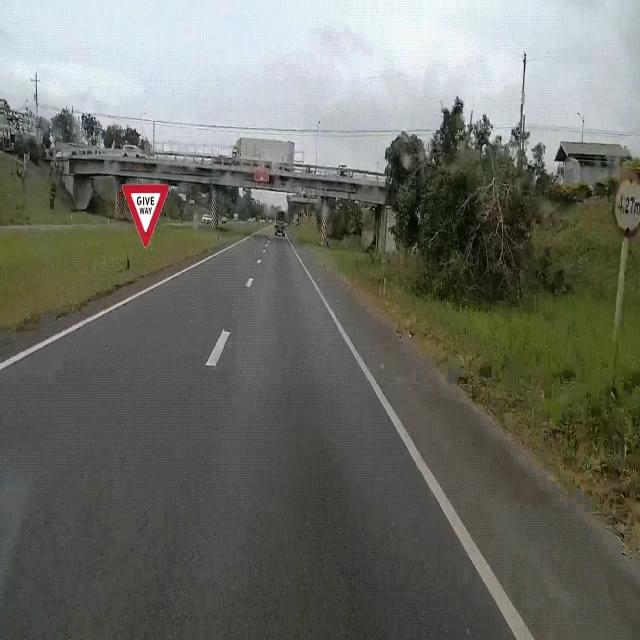Ceder-le-Passage: (116, 169, 174, 264)
